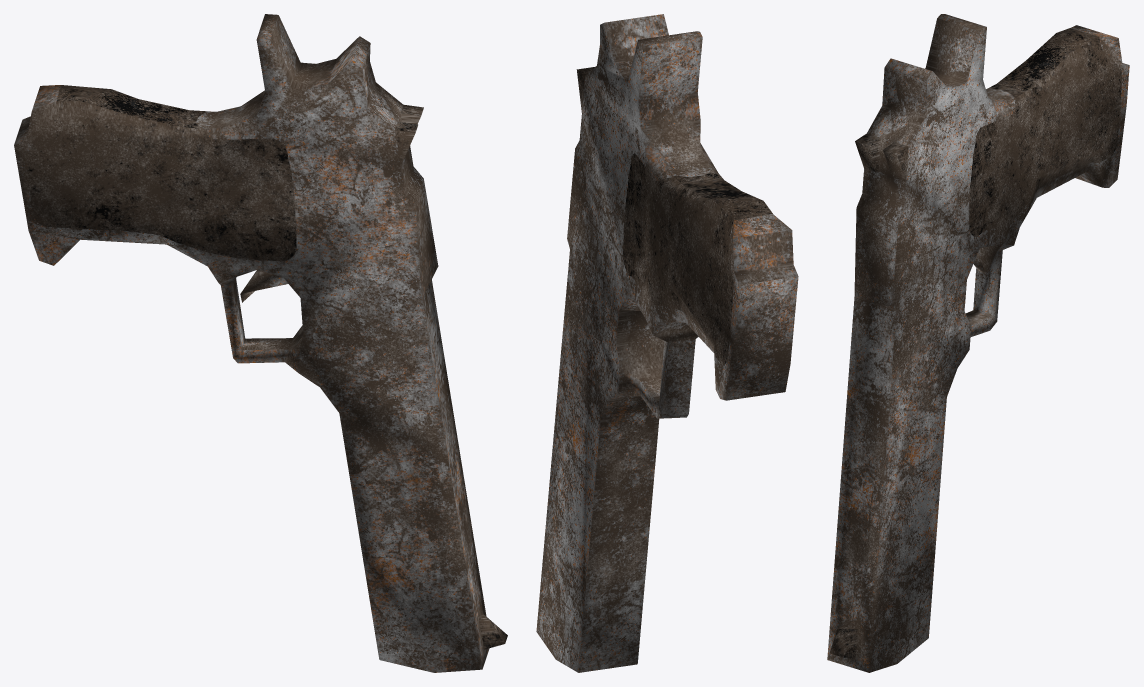
File: Anim_idle_pistola_objetos.0040.obj
3 renders of one model, left to right at view 1: azimuth 30°, elevation 25°; view 2: azimuth 150°, elevation 25°; view 3: azimuth 270°, elevation 25°, orthographic. The views are drawn at different scales.
Visible parts, largest first — view 1: Pistola1; view 2: Pistola1; view 3: Pistola1.
Part boxes in pixels (x1=…): Pistola1: x1=14, y1=14, x2=507, y2=672; Pistola1: x1=536, y1=14, x2=798, y2=672; Pistola1: x1=827, y1=14, x2=1129, y2=672.
Size of the model in its own units: 0.9975 by 1.67 by 0.7854.
